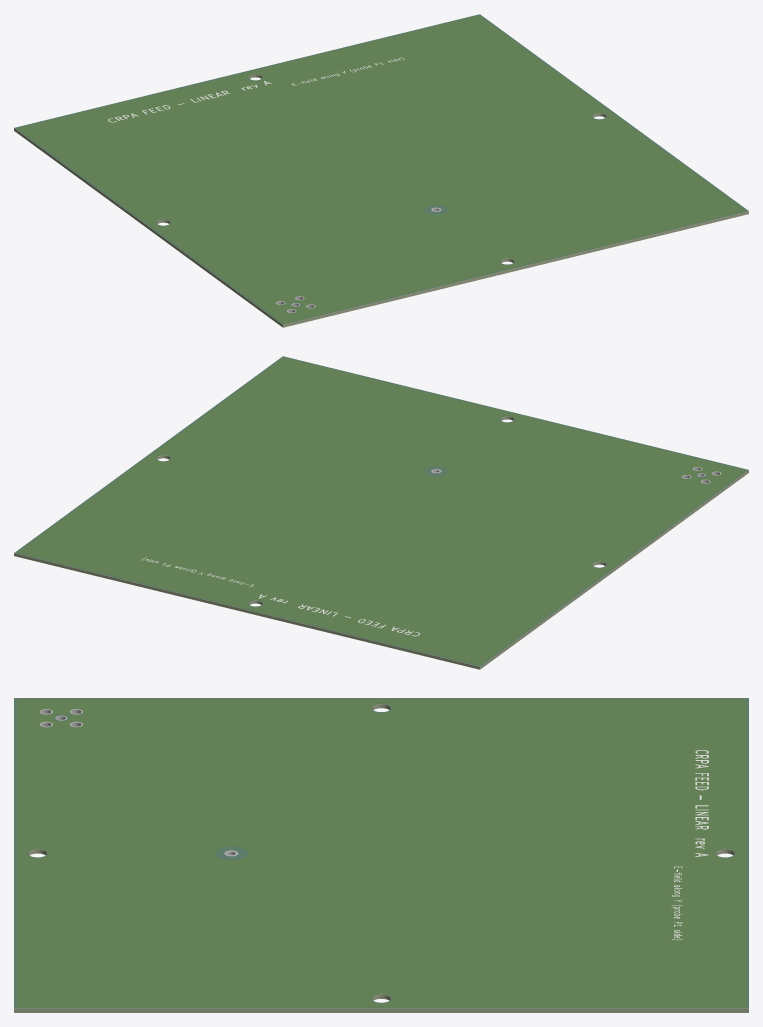
File: feed_linear.glb
3 renders of one model, top to bottom at view 1: azimuth 30°, elevation 25°; view 2: azimuth 150°, elevation 25°; view 3: azimuth 270°, elevation 25°, orthographic. The views are drawn at different scales.
Visible parts, largest first — view 1: =>[0:1:1:8], =>[0:1:1:4], =>[0:1:1:10], =>[0:1:1:6]; view 2: =>[0:1:1:8], =>[0:1:1:4], =>[0:1:1:10]; view 3: =>[0:1:1:8], =>[0:1:1:4], =>[0:1:1:10], =>[0:1:1:6], =>[0:1:1:9].
Part boxes in pixels (<box>): =>[0:1:1:8]: <box>14,14,748,324</box>; =>[0:1:1:4]: <box>18,16,744,322</box>; =>[0:1:1:10]: <box>14,15,748,327</box>; =>[0:1:1:6]: <box>108,57,404,122</box>; =>[0:1:1:8]: <box>14,356,748,666</box>; =>[0:1:1:4]: <box>18,358,744,664</box>; =>[0:1:1:10]: <box>14,357,748,669</box>; =>[0:1:1:8]: <box>14,698,748,1008</box>; =>[0:1:1:4]: <box>17,700,745,1006</box>; =>[0:1:1:10]: <box>14,699,748,1012</box>; =>[0:1:1:6]: <box>671,750,708,940</box>; =>[0:1:1:9]: <box>14,708,748,1012</box>.
Size of the model in its own units: 0.124 by 0.00163 by 0.124.
